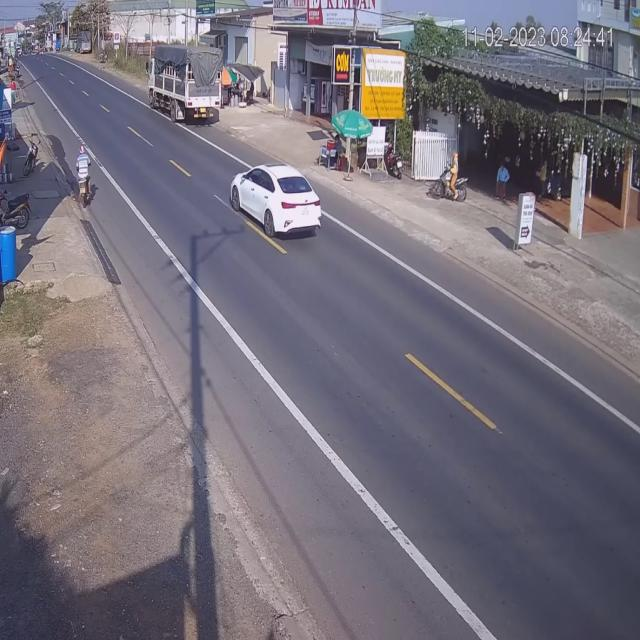car: (228, 164, 324, 238)
motorbike: (76, 148, 94, 209)
truck: (151, 42, 226, 126)
